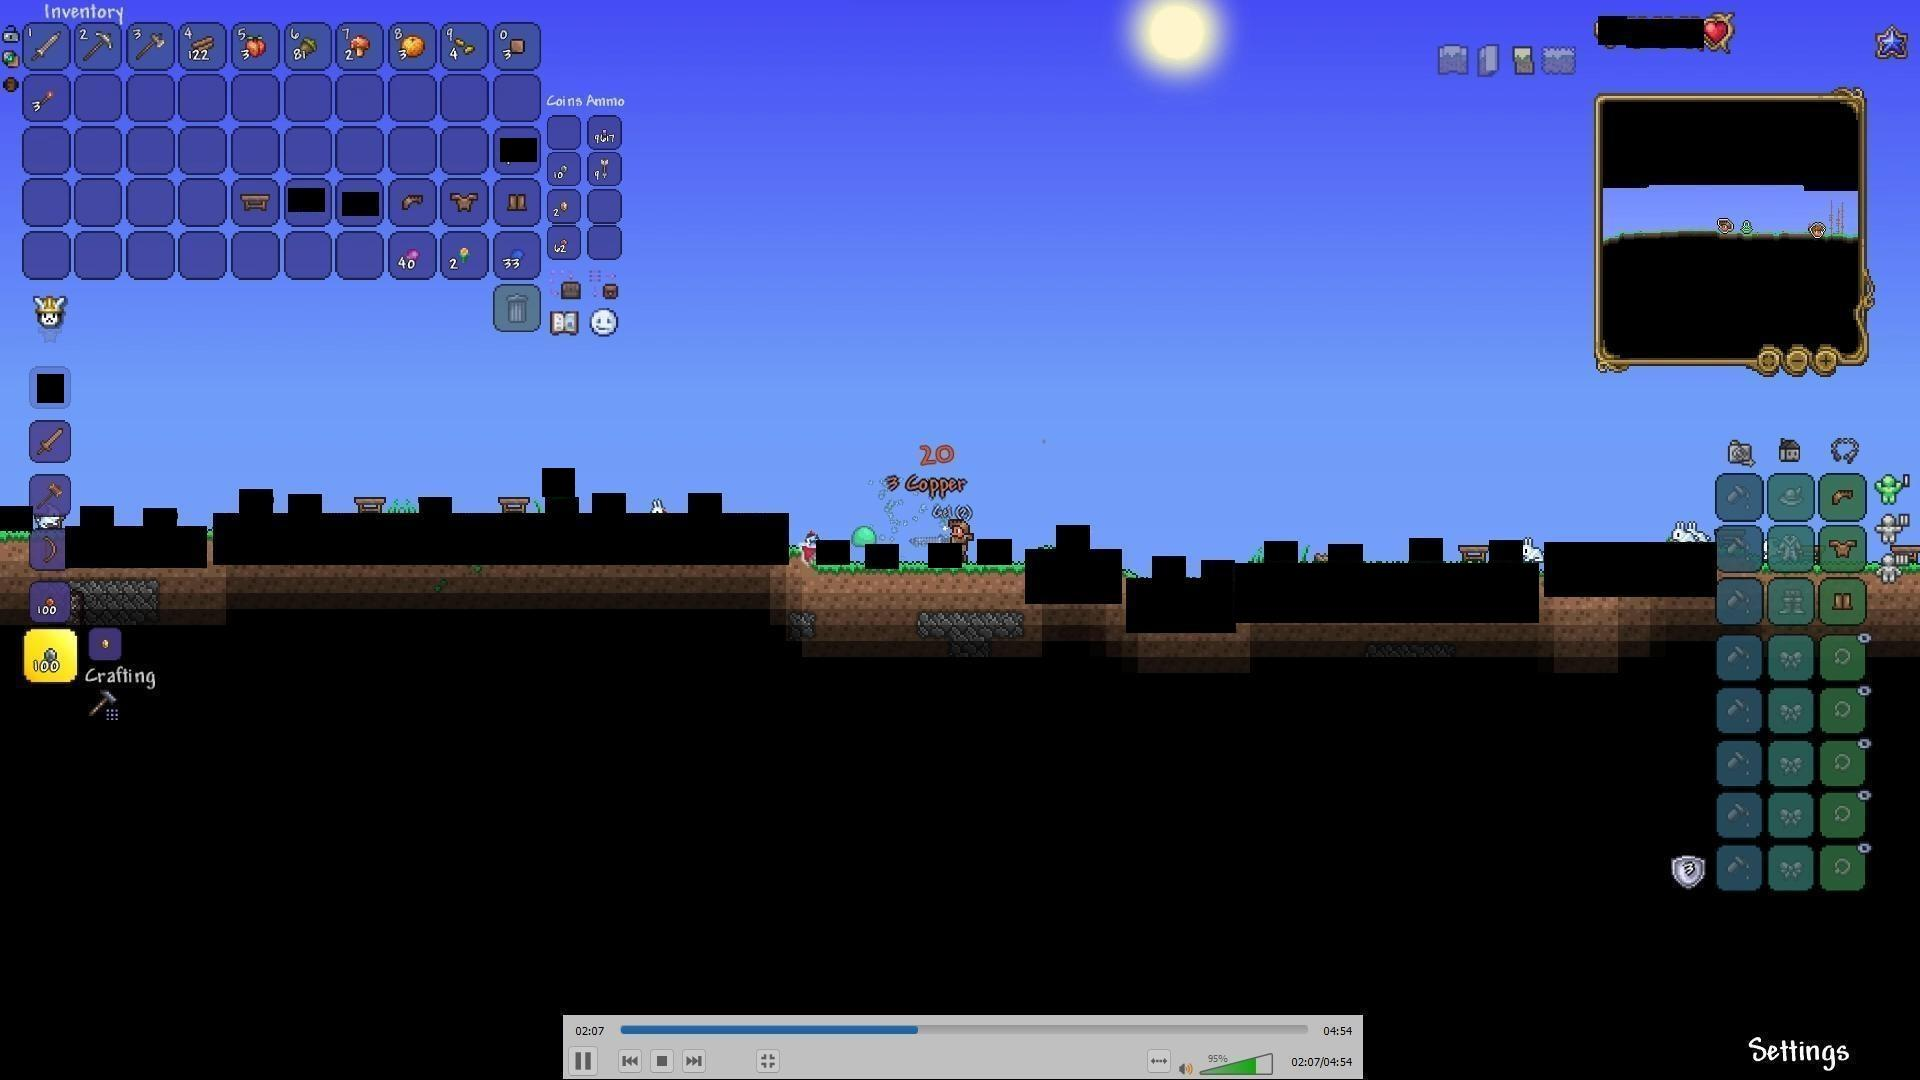breastplate: (1832, 537, 1859, 558), (448, 190, 477, 210)
dirt: (804, 563, 1023, 612), (1, 525, 26, 567)
heart: (1705, 18, 1731, 46)
helmet: (400, 190, 429, 215), (1829, 484, 1857, 509)
legs: (505, 186, 531, 214), (1832, 587, 1857, 616)
slime: (848, 517, 880, 545)
wood: (189, 33, 218, 61)
workbench: (237, 189, 273, 212), (1457, 539, 1490, 564), (353, 495, 385, 520), (498, 495, 531, 518)
